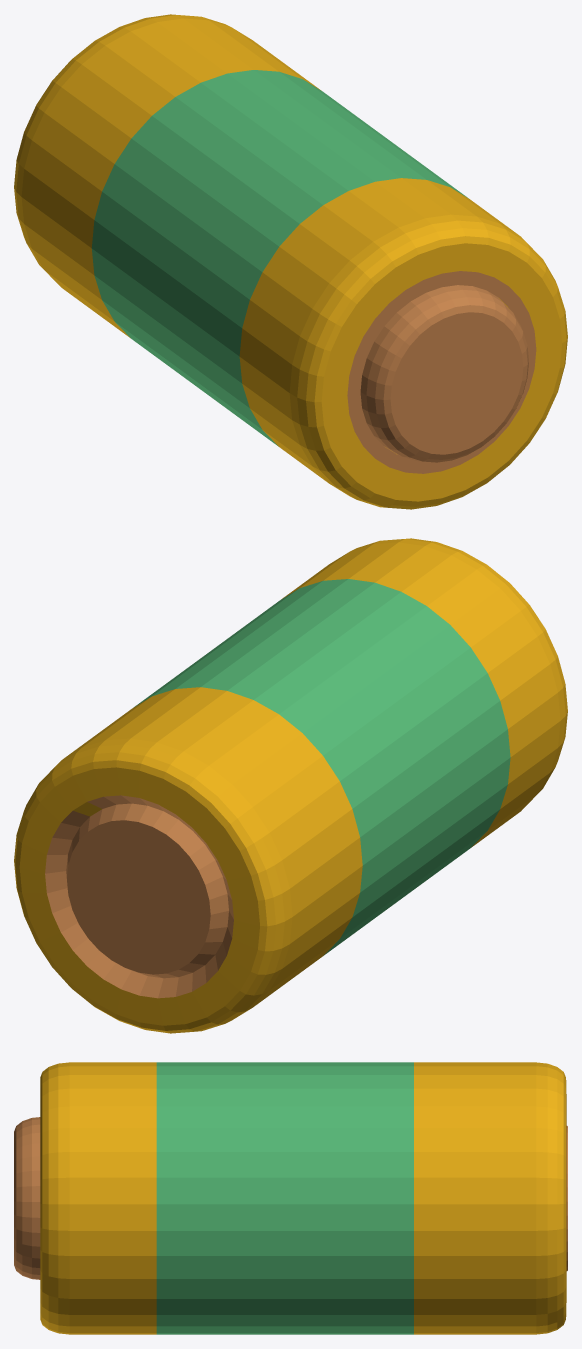
The model's file is Battery.fbx.
3 views of the same model, one above another, from view 1: azimuth 30°, elevation 25°; view 2: azimuth 150°, elevation 25°; view 3: azimuth 270°, elevation 25° (orthographic). The views are drawn at different scales.
Parts seen in each view (by area): view 1: Cylinder.003; view 2: Cylinder.003; view 3: Cylinder.003.
Boxes of the visible parts, bbox=[...] form: Cylinder.003: bbox=[14, 14, 567, 509]; Cylinder.003: bbox=[14, 538, 567, 1033]; Cylinder.003: bbox=[14, 1062, 567, 1334].
Bounding box in the file's own units: 227 × 227 × 461.
